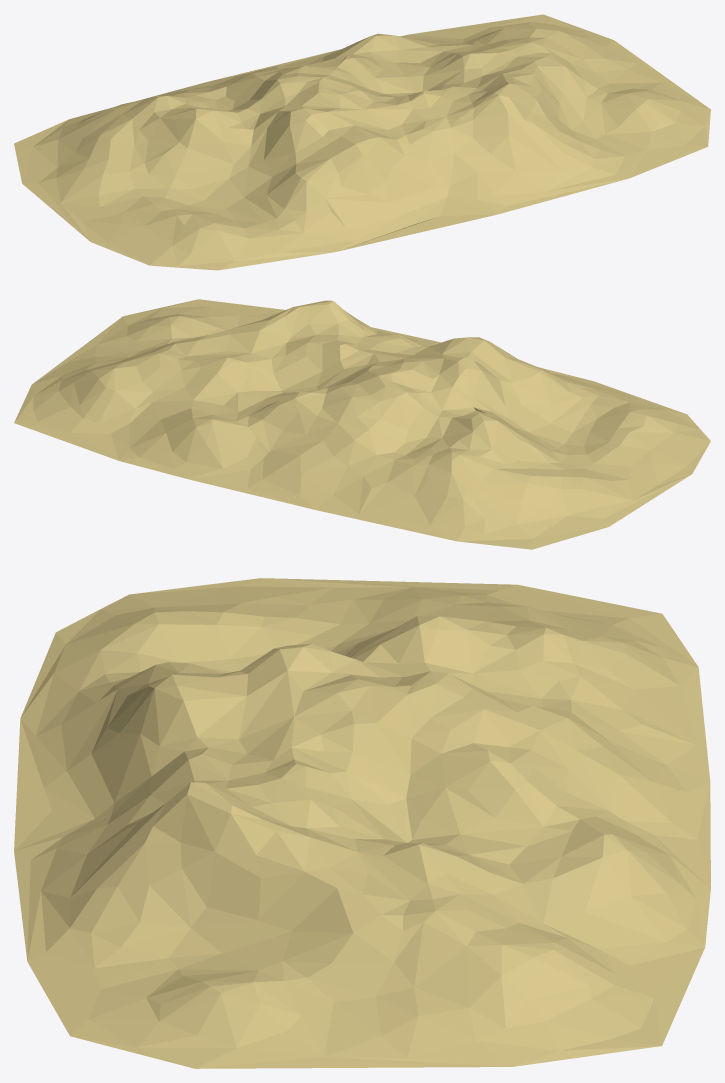
Rendered from TerrainSand_1.fbx.
3 renders of one model, top to bottom at view 1: azimuth 30°, elevation 25°; view 2: azimuth 150°, elevation 25°; view 3: azimuth 270°, elevation 25°, orthographic. The views are drawn at different scales.
Visible parts, largest first — view 1: TerrainSand_1; view 2: TerrainSand_1; view 3: TerrainSand_1.
Part boxes in pixels (x1,y1,x2,y2): TerrainSand_1: [14, 14, 710, 270]; TerrainSand_1: [14, 299, 710, 549]; TerrainSand_1: [14, 578, 710, 1068].
Size of the model in its own units: 2363 by 260 by 1418.
